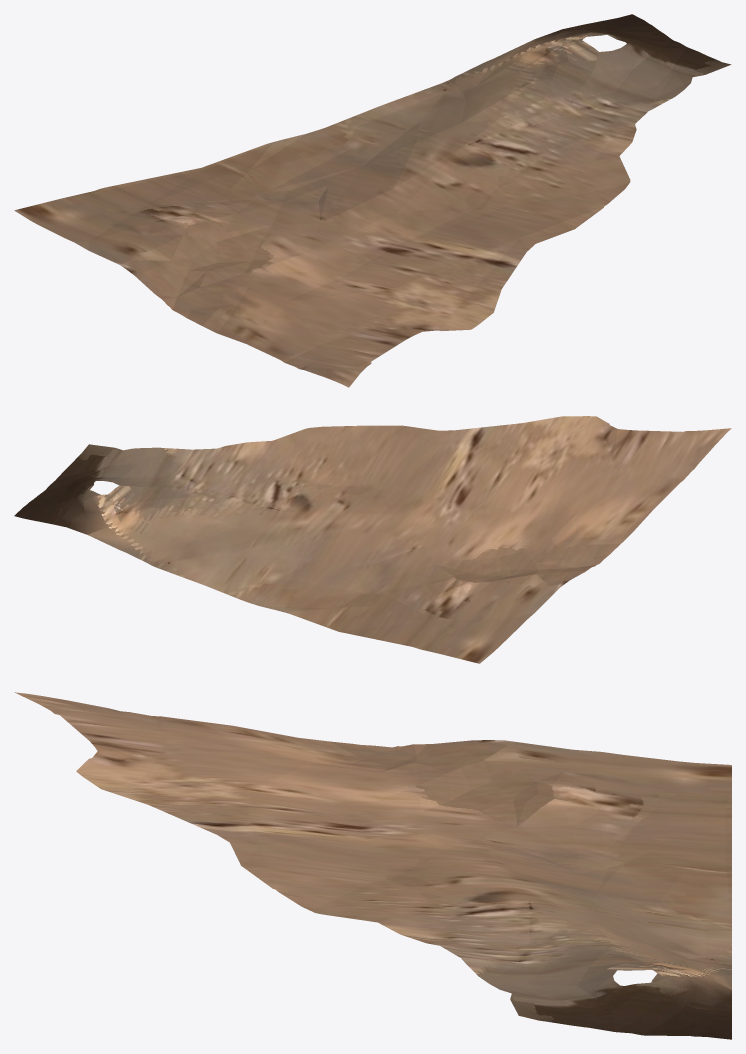
3 renders of one model, top to bottom at view 1: azimuth 30°, elevation 25°; view 2: azimuth 150°, elevation 25°; view 3: azimuth 270°, elevation 25°, orthographic. The views are drawn at different scales.
Size of the model in its own units: 1.04 by 0.1145 by 0.98.
2 materials, 2 textured.
